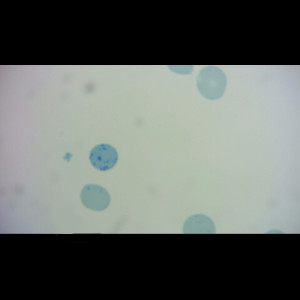aggregate reticulocyte: (87, 143, 120, 172)
erythrocyte: (194, 65, 229, 101)
punctate reticulocyte: (79, 183, 112, 212)
